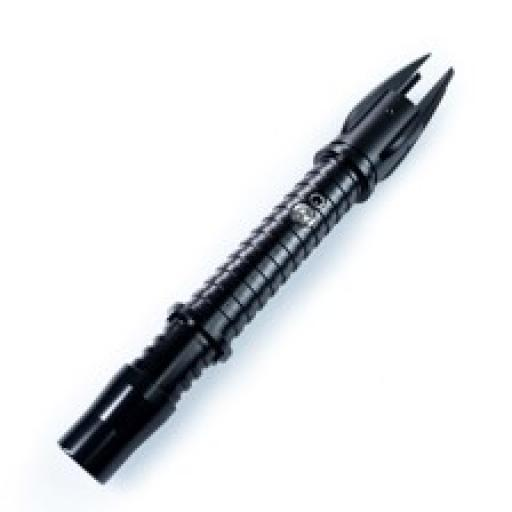lightsaber: (59, 52, 456, 485)
